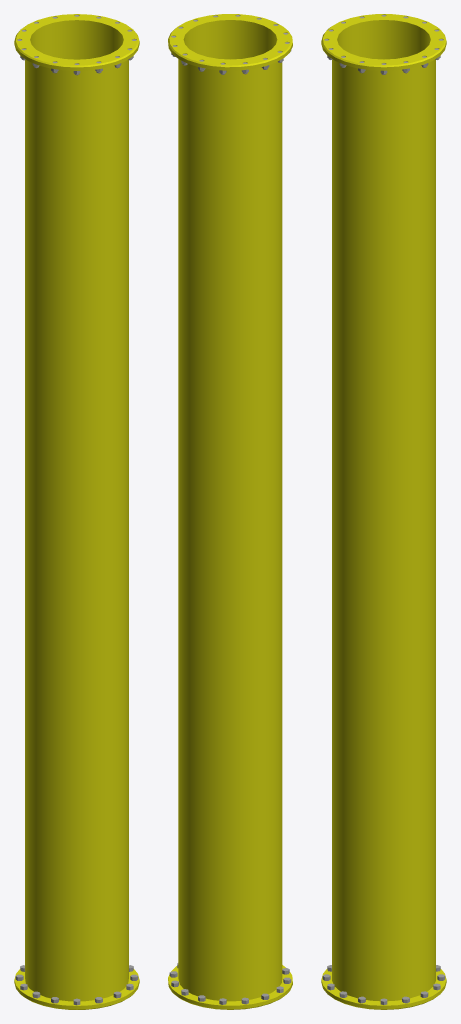
The model's file is pipe_segment.obj.
3 views of the same model, side by side, from view 1: azimuth 90°, elevation 25°; view 2: azimuth 150°, elevation 25°; view 3: azimuth 270°, elevation 25° (orthographic).
Visible parts, largest first — view 1: pipe, bolts; view 2: pipe, bolts; view 3: pipe, bolts.
Part boxes in pixels (left/top/right/bottom): pipe: left=14, top=14, right=139, bottom=1009; bolts: left=15, top=15, right=138, bottom=1005; pipe: left=168, top=14, right=292, bottom=1009; bolts: left=169, top=15, right=291, bottom=1004; pipe: left=321, top=14, right=446, bottom=1009; bolts: left=322, top=15, right=445, bottom=1004.
Bounding box in the file's own units: 1.2 × 10 × 1.2.
Materials: 2 (1 with a texture image).
